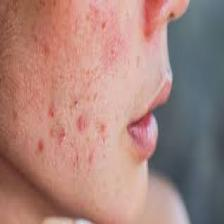Sensitif: (8, 0, 178, 216)
